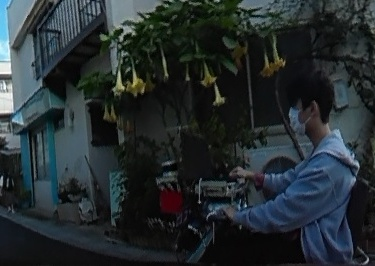person: (262, 70, 357, 266)
